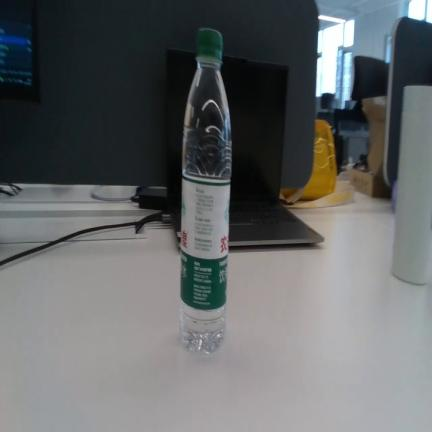bottle: (180, 28, 232, 353)
